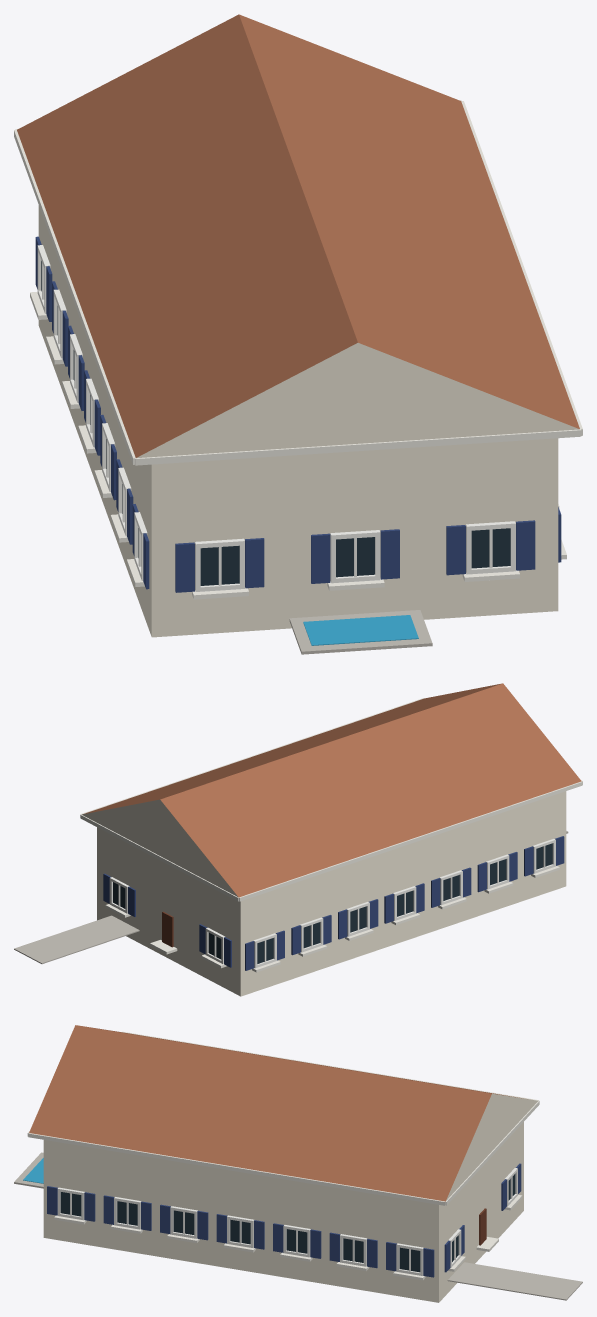
3 renders of one model, top to bottom at view 1: azimuth 30°, elevation 25°; view 2: azimuth 150°, elevation 25°; view 3: azimuth 270°, elevation 25°, orthographic. The views are drawn at different scales.
Visible parts, largest first — view 1: b846; view 2: b846; view 3: b846.
Boxes of the visible parts, x1,y1,x2,y2 form: b846: [14, 14, 582, 654]; b846: [14, 683, 582, 996]; b846: [14, 1025, 582, 1302].
Bounding box in the file's own units: 9047 × 4000 × 12504.
